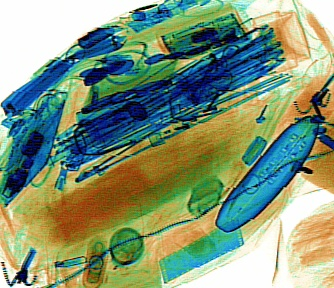lighter: (149, 106, 225, 145)
